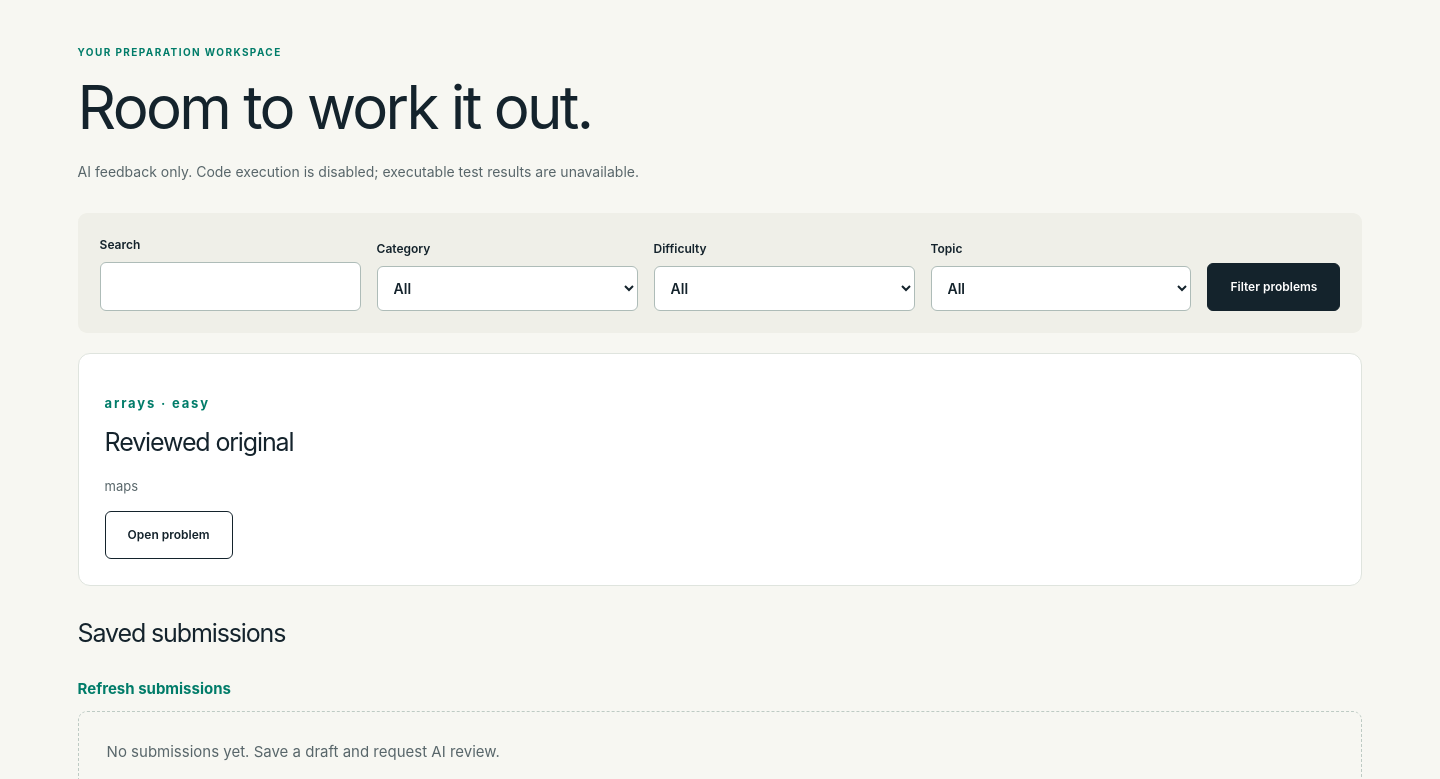
Test: coding saves an owner draft, protects dirty edits and labels AI feedback as not executed
The width and height of the screenshot is (1440, 779).
Click the button "Open problem".
click(169, 535)  # box top-left (105, 511), bottom-right (233, 559)
(page scrolled)
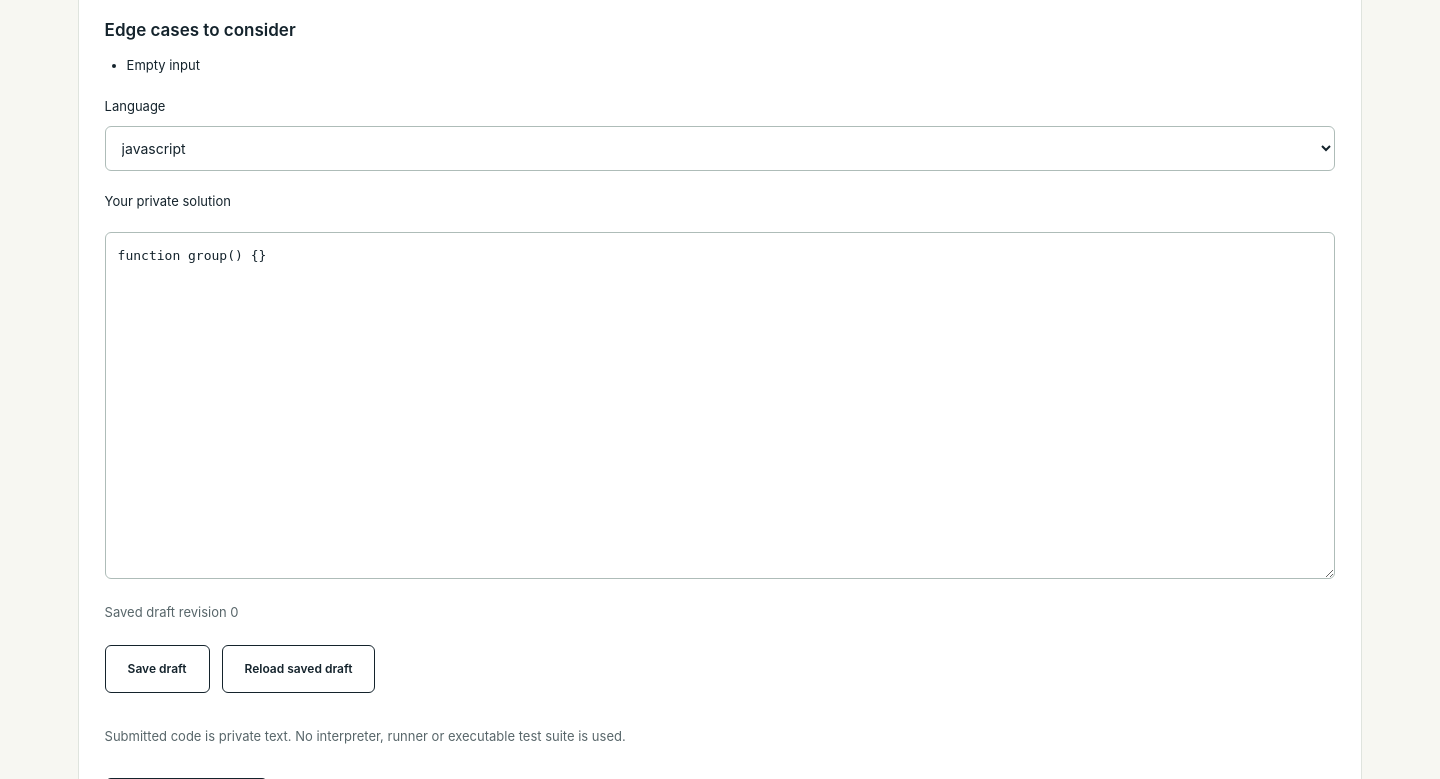
expect the text box labelled "Your private solution" holds "function group() {}": met
Replace the text in the text box labelled "Your private solution" with "const grouped = new Map();" at (720,406), box top-left (105, 232), bottom-right (1335, 580)
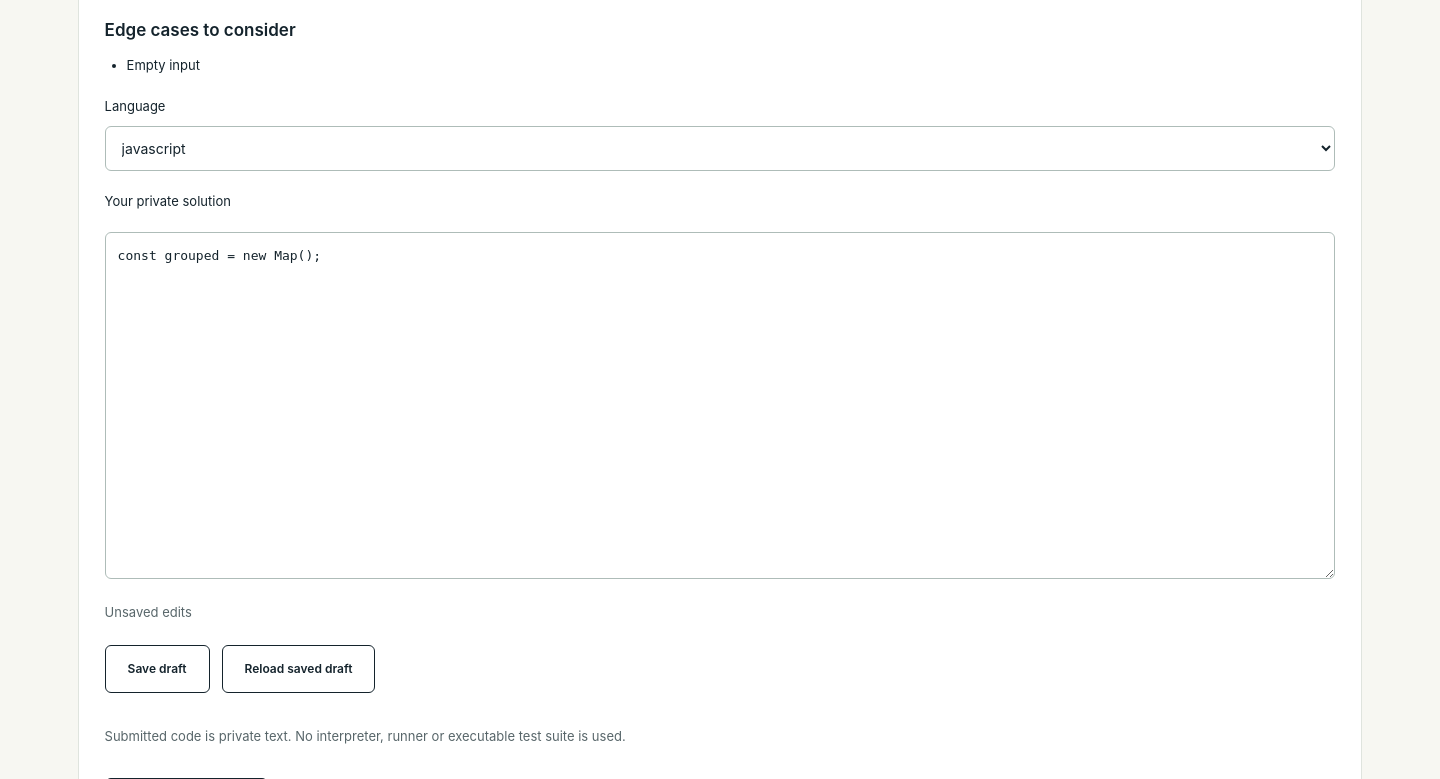
Select "python" in the dropdown labelled "Language" at (720,149), box top-left (105, 126), bottom-right (1335, 171)
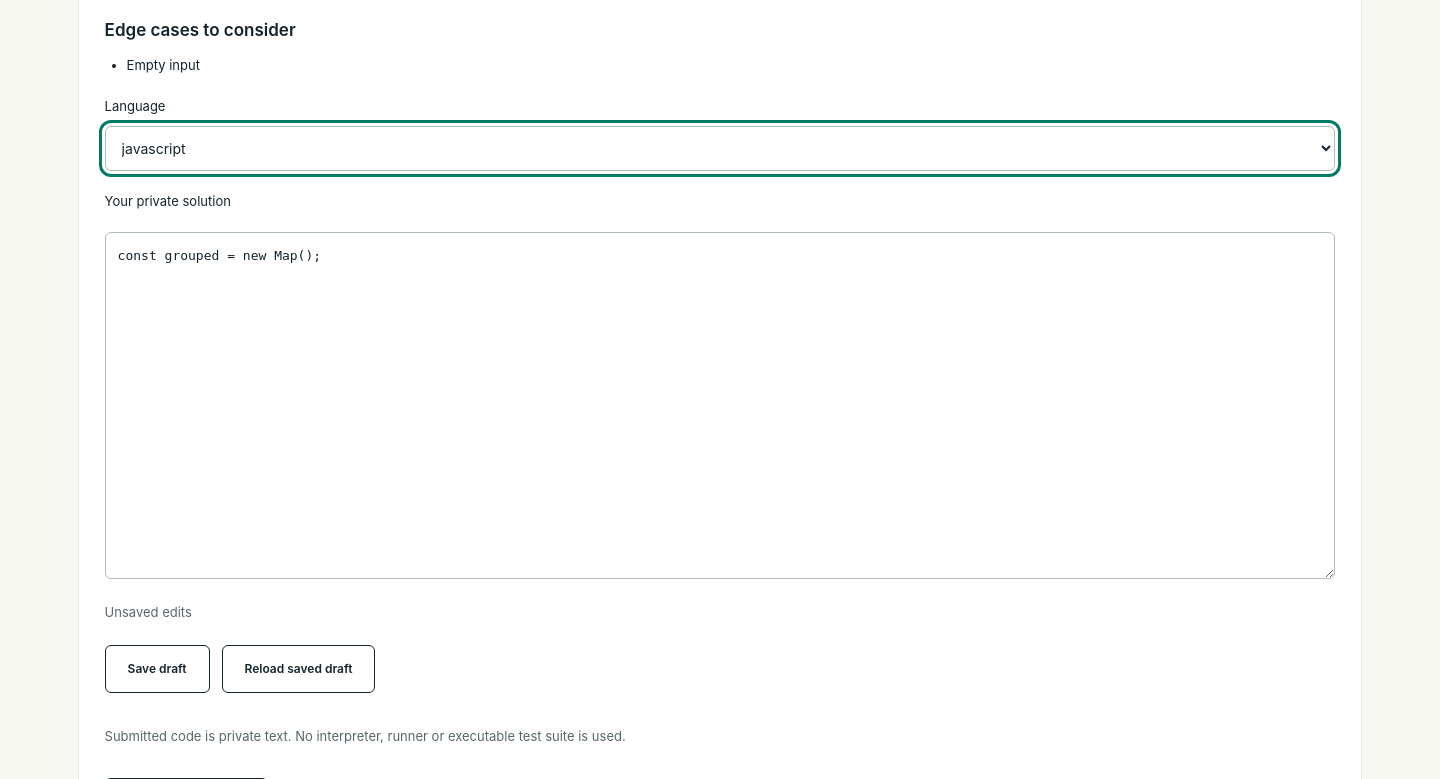
Click the button "Save draft".
click(157, 669)  # box top-left (105, 645), bottom-right (210, 693)
(page scrolled)
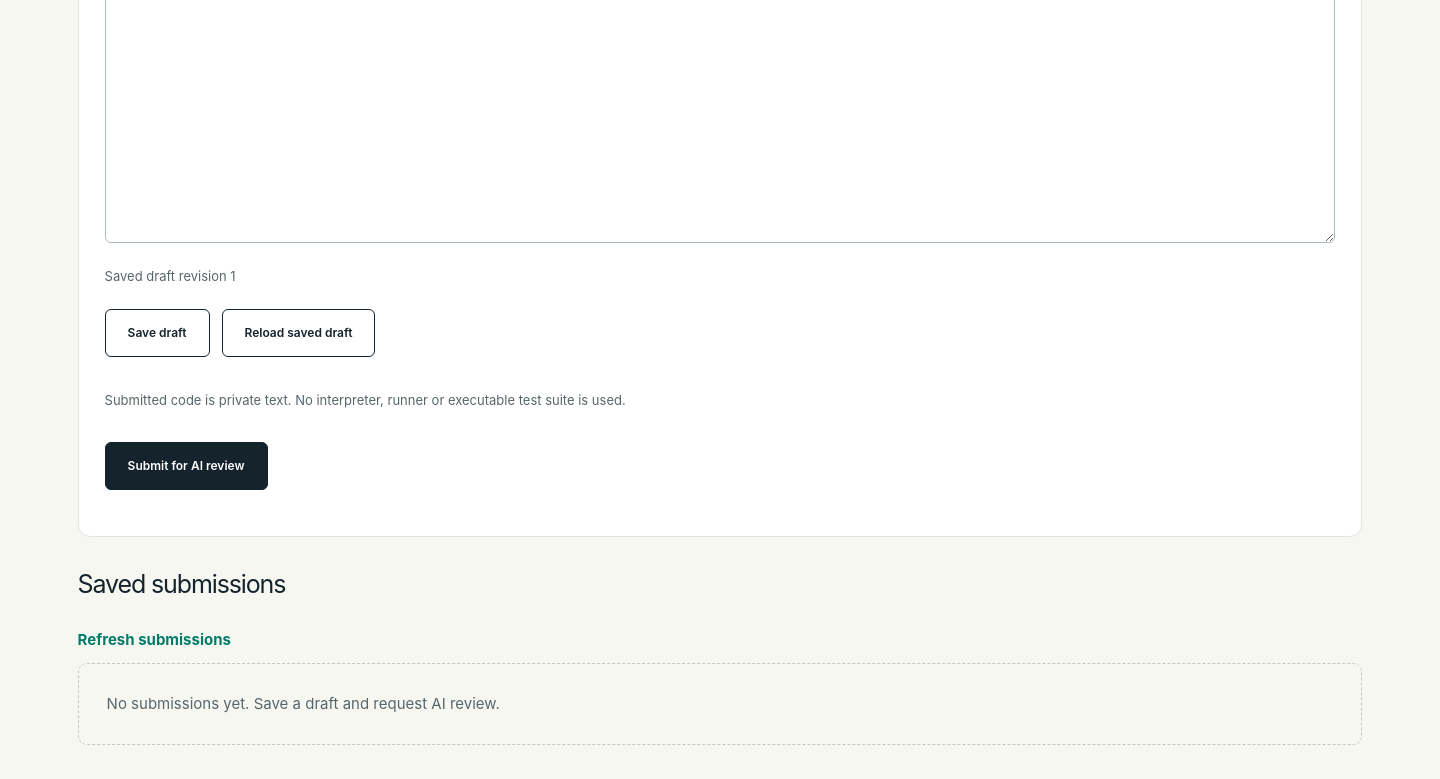
expect the text "Saved draft revision 1" is shown: met, box top-left (105, 268), bottom-right (236, 284)
Click the button "Submit for AI review".
click(186, 466)  # box top-left (105, 442), bottom-right (268, 490)
(page scrolled)
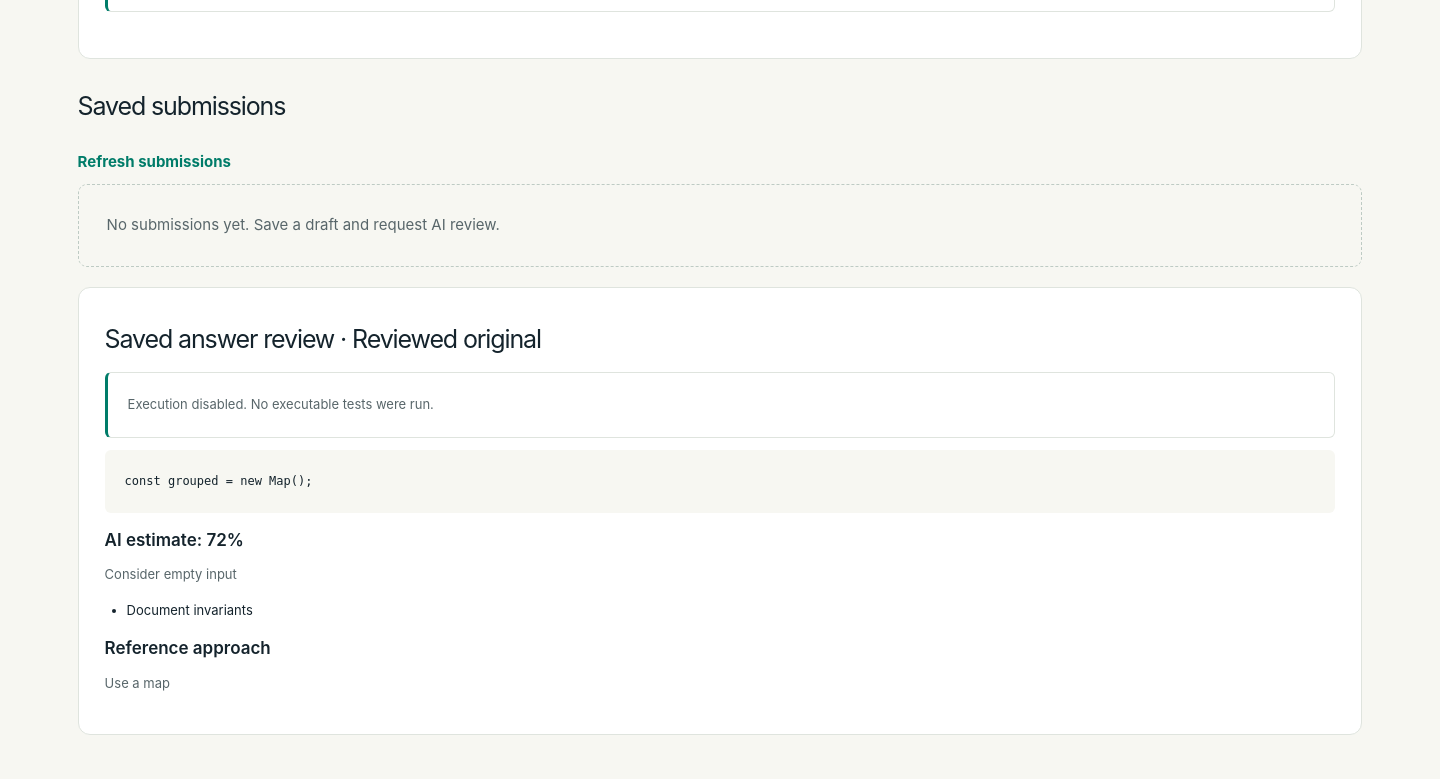
expect the heading "AI estimate: 72%" is shown: met, box top-left (105, 530), bottom-right (244, 550)
expect the text "Execution disabled. No executable tests were run." is shown: met, box top-left (105, 372), bottom-right (1335, 438)
